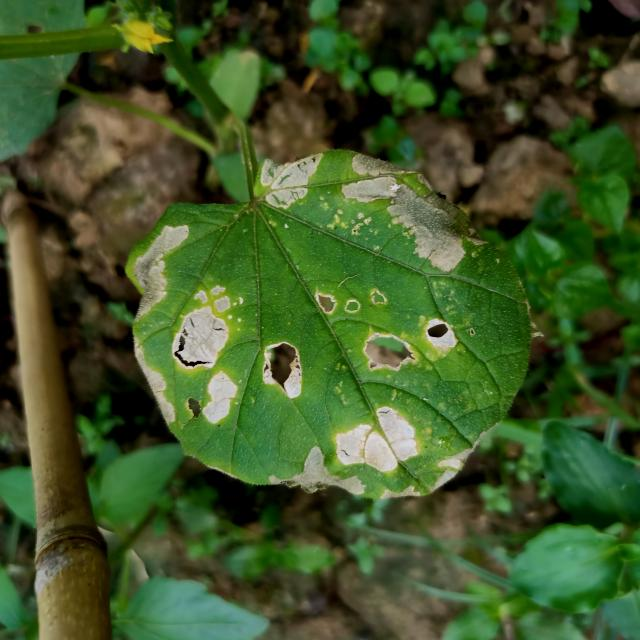disease_cucumber: (251, 146, 486, 404), (129, 218, 312, 433), (264, 402, 521, 502)
